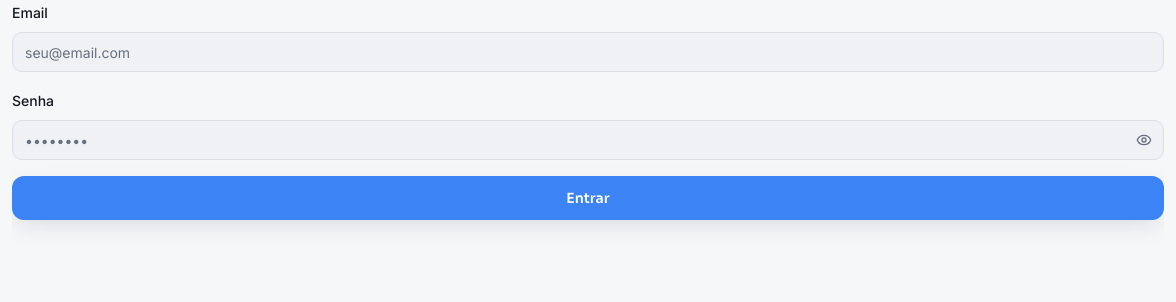
it: LoginForm › shows validation errors for empty fields on submit
Click the button "Entrar": (588, 198) [12,176,1164,220]
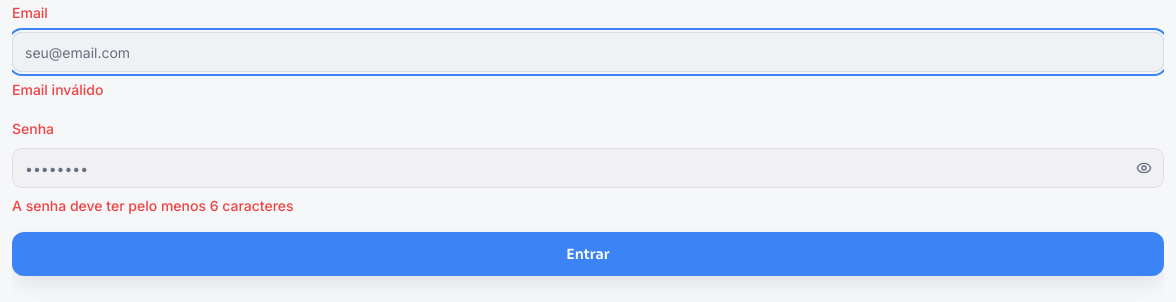
Result: the text "Email inválido" is shown at [12,81,103,98]
Result: the text "A senha deve ter pelo menos 6 caracteres" is shown at [12,197,294,214]
